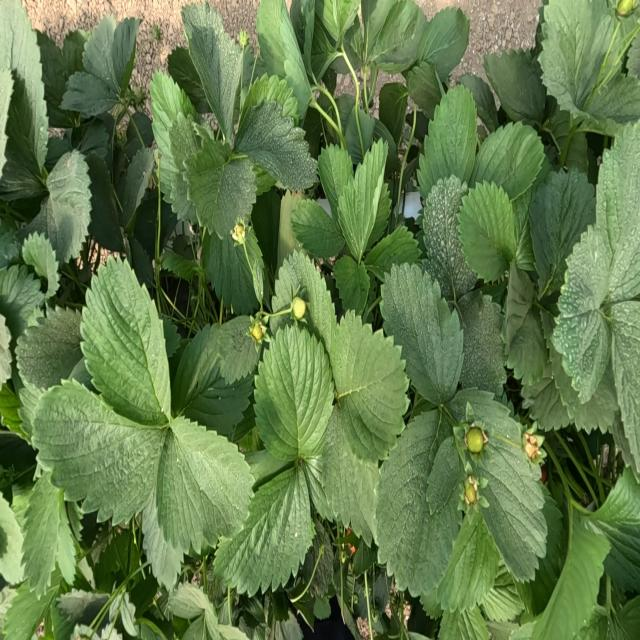Leaves: (35, 378, 166, 524), (376, 412, 456, 595), (81, 258, 169, 424), (156, 417, 252, 555), (217, 460, 312, 595), (330, 312, 408, 462), (382, 264, 463, 404), (254, 324, 334, 461), (530, 505, 609, 638), (553, 225, 611, 402), (475, 439, 547, 579), (176, 318, 257, 435), (539, 0, 618, 114), (306, 404, 377, 530), (181, 1, 241, 143), (529, 169, 594, 298), (0, 0, 47, 174), (597, 125, 639, 302), (235, 101, 318, 190), (418, 85, 477, 198), (187, 138, 255, 236), (437, 505, 499, 612), (256, 0, 311, 120), (422, 175, 475, 298), (518, 489, 568, 615), (338, 140, 388, 263), (272, 249, 335, 344), (457, 182, 516, 281), (592, 469, 639, 591), (551, 348, 618, 432), (21, 472, 66, 596), (16, 307, 82, 390), (473, 122, 543, 200), (150, 71, 195, 191), (608, 300, 639, 471), (202, 229, 264, 313), (504, 264, 547, 385), (46, 152, 91, 263), (457, 293, 506, 394), (484, 48, 545, 123), (83, 17, 139, 95), (369, 1, 427, 72), (417, 7, 470, 82), (285, 194, 343, 259), (142, 494, 183, 585), (86, 153, 123, 251), (2, 580, 59, 639), (539, 104, 588, 172), (169, 114, 198, 220), (364, 225, 419, 280), (1, 265, 43, 337), (318, 143, 354, 226), (241, 73, 298, 124), (584, 74, 639, 124), (94, 527, 136, 591), (120, 146, 153, 227), (61, 72, 119, 118), (337, 95, 375, 165), (521, 379, 569, 429), (22, 232, 58, 296), (35, 30, 67, 101), (459, 74, 498, 131), (334, 255, 370, 315), (407, 62, 443, 118), (1, 493, 23, 584), (439, 604, 490, 639), (322, 0, 359, 46), (379, 82, 407, 142), (478, 584, 524, 620), (169, 582, 213, 619), (63, 30, 89, 75), (162, 249, 198, 279), (373, 571, 389, 612), (313, 596, 331, 619), (376, 126, 390, 138)
Strawberries: (466, 428, 485, 452), (291, 298, 306, 319), (525, 437, 538, 459), (233, 222, 245, 243), (617, 1, 634, 15), (465, 482, 476, 503), (250, 324, 263, 341), (237, 29, 247, 47)
